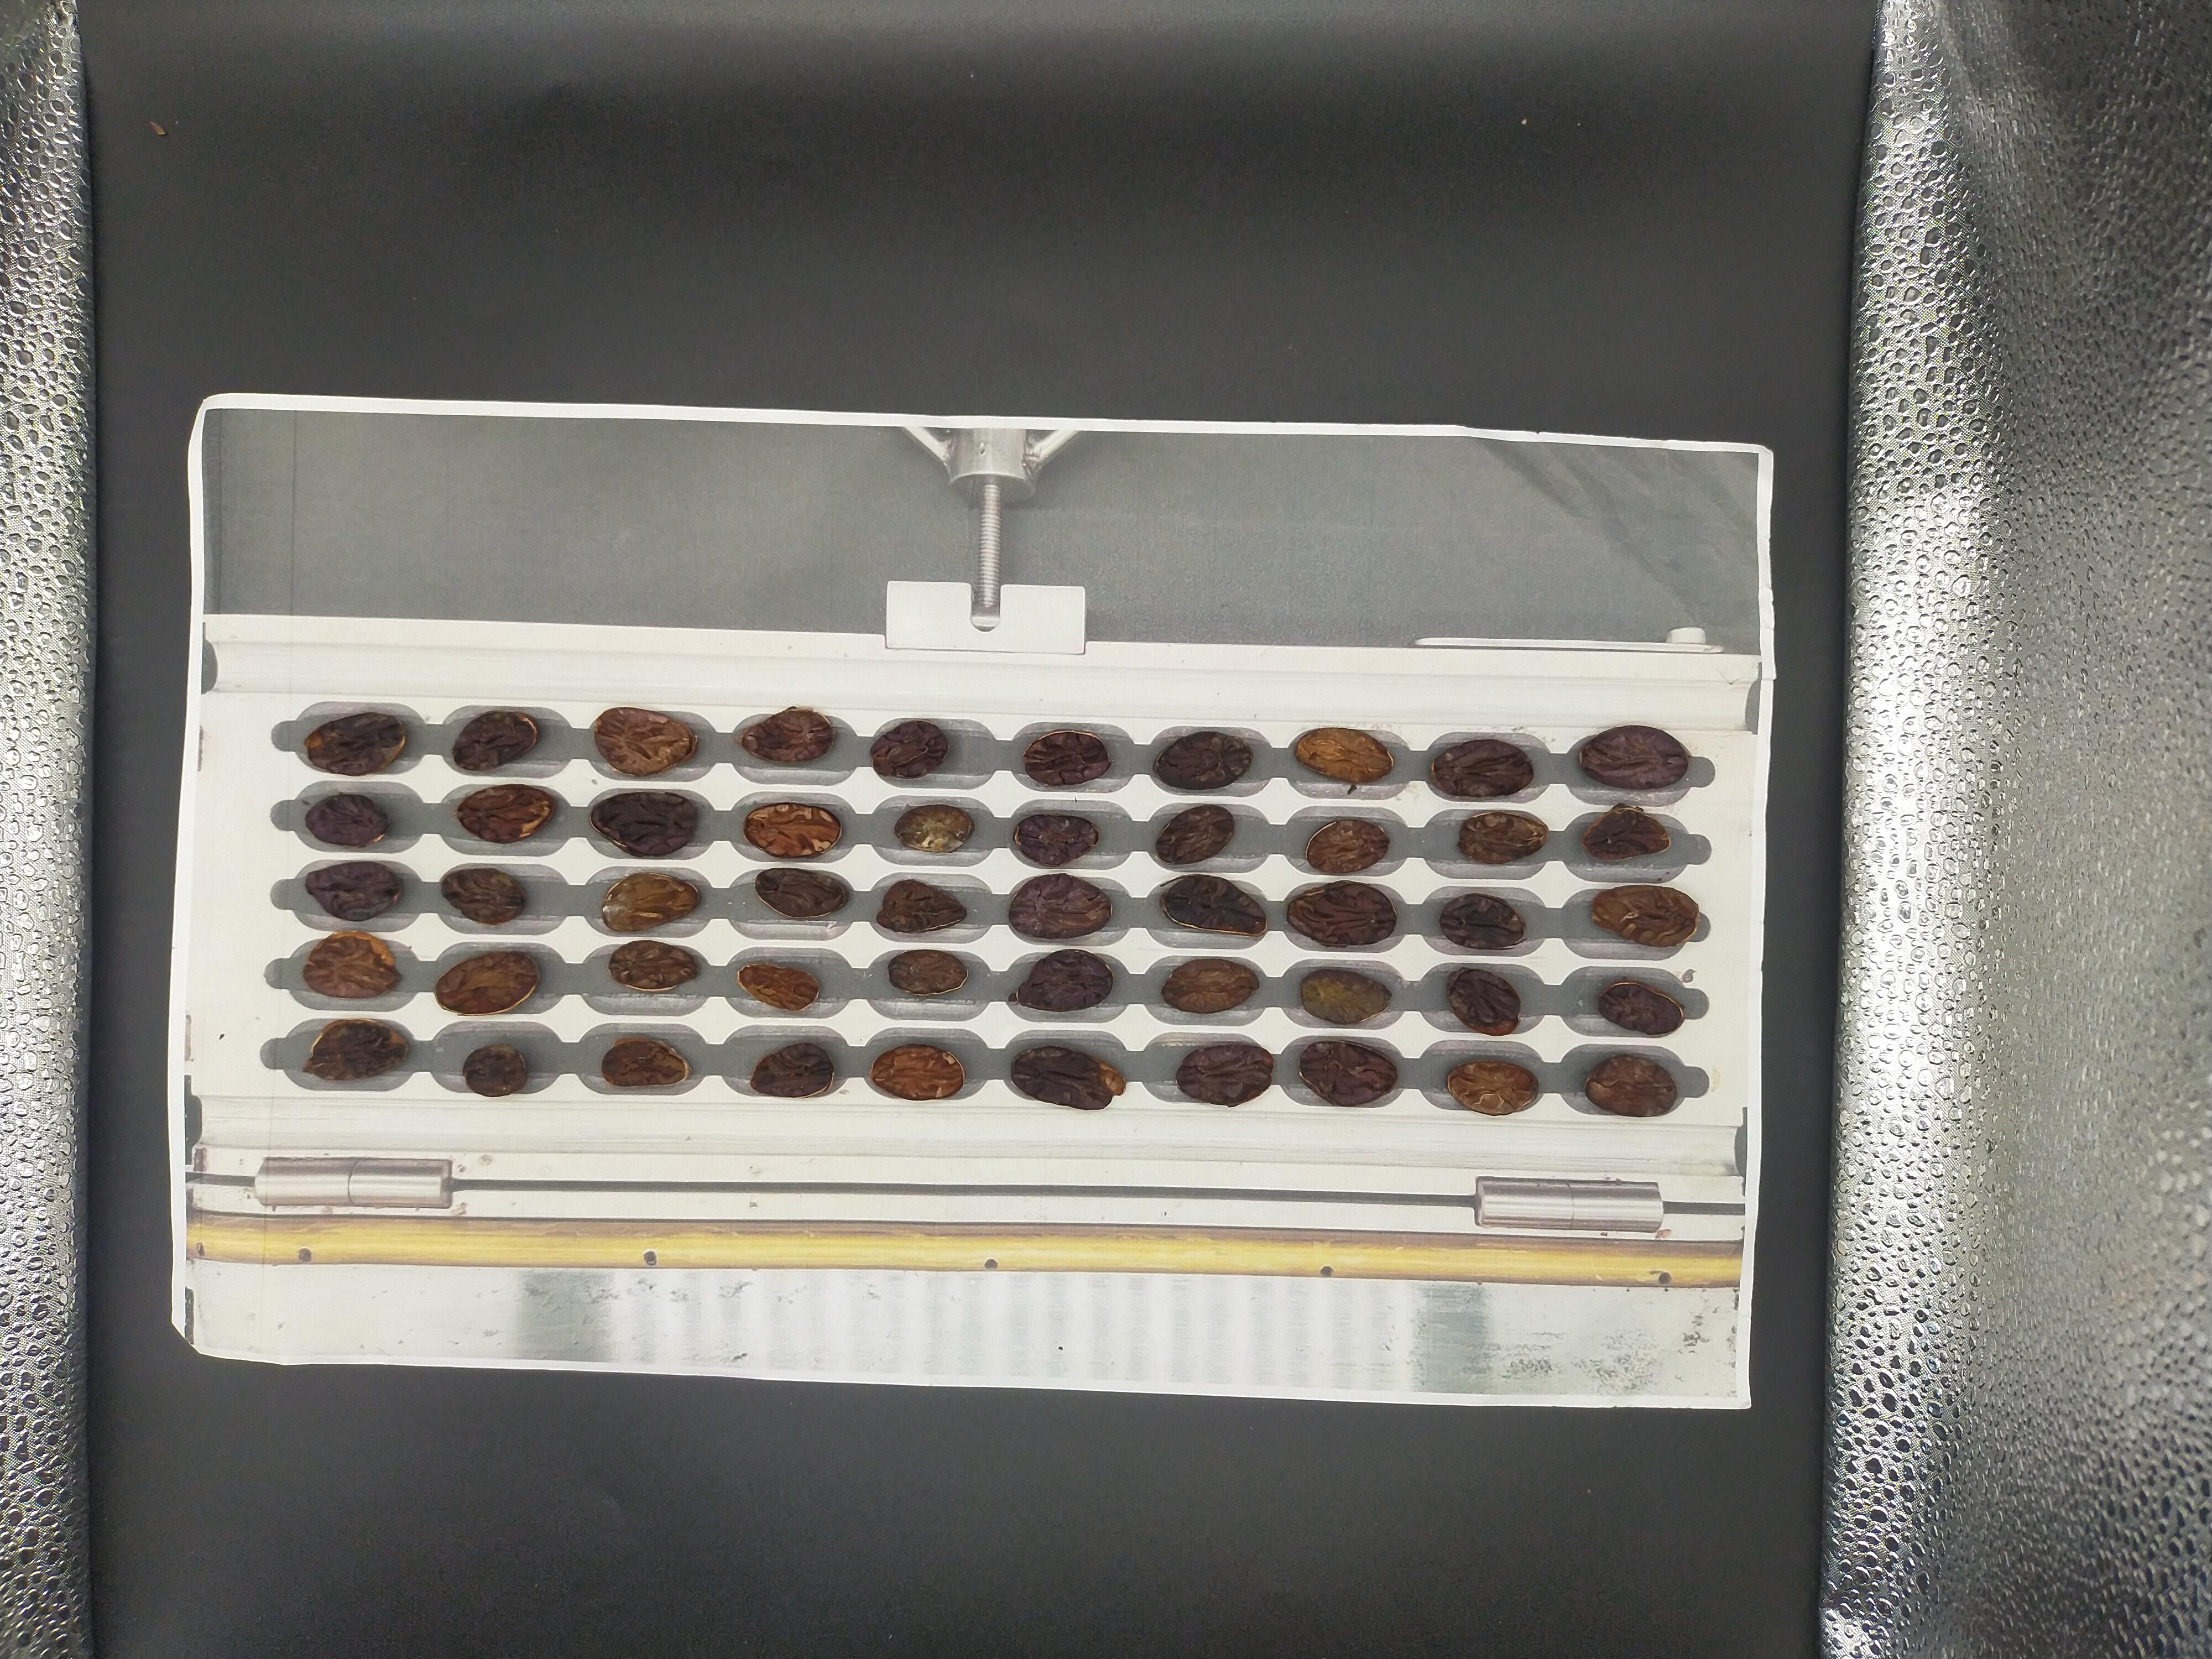Brown - G1: (657, 1260, 719, 1298), (153, 1284, 211, 1326), (378, 1216, 435, 1253), (230, 1211, 291, 1244), (745, 1222, 798, 1258), (444, 1342, 498, 1377), (374, 1300, 425, 1333), (308, 1291, 361, 1319)
Brown - G2: (810, 1260, 876, 1300), (296, 1169, 361, 1209), (374, 1168, 430, 1204), (737, 1351, 791, 1387), (446, 1258, 498, 1293), (665, 1227, 716, 1260)
Brown - G3: (221, 1291, 280, 1331), (806, 1349, 862, 1385), (660, 1178, 716, 1215), (592, 1298, 648, 1333), (305, 1340, 355, 1370)
Brown - G4: (453, 1293, 498, 1323)
Insect-damaged: (662, 1305, 716, 1337)
Mouldy: (307, 1253, 362, 1290), (455, 1220, 500, 1251)
Partly Purple - G1: (296, 1211, 362, 1251), (523, 1182, 571, 1215)
Partly Purple - G2: (153, 1171, 212, 1211), (514, 1255, 571, 1295), (592, 1256, 651, 1295), (728, 1187, 791, 1222), (226, 1169, 280, 1209), (599, 1342, 655, 1380), (381, 1342, 432, 1377), (442, 1175, 489, 1211)
Total Purple - G2: (153, 1248, 211, 1284), (516, 1225, 568, 1258)
Total Purple - G3: (806, 1180, 867, 1218), (519, 1293, 573, 1333), (815, 1310, 866, 1345), (155, 1215, 204, 1246)
Very Dark Brown - G1: (512, 1342, 580, 1382), (153, 1328, 212, 1366), (735, 1302, 782, 1342)
Very Dark Brown - G2: (664, 1340, 719, 1380), (806, 1218, 859, 1258), (735, 1263, 784, 1300), (223, 1253, 273, 1288), (590, 1220, 637, 1256)
Very Dark Brown - G3: (589, 1182, 644, 1216), (383, 1249, 437, 1284), (233, 1342, 273, 1373)
